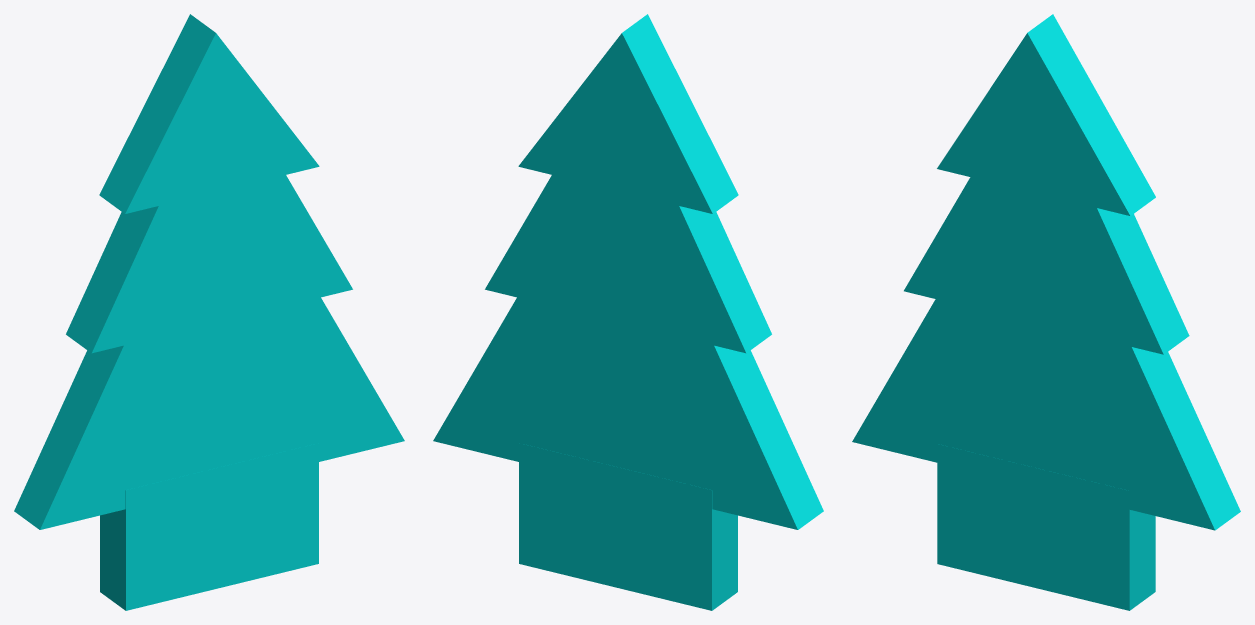
File: SM_Prop_Tree_Cookie_Large_02_Collision.fbx
3 renders of one model, left to right at view 1: azimuth 30°, elevation 25°; view 2: azimuth 150°, elevation 25°; view 3: azimuth 330°, elevation 25°, orthographic.
Parts seen in each view (by area): view 1: SM_Prop_Tree_Cookie_Large_02_Collision; view 2: SM_Prop_Tree_Cookie_Large_02_Collision; view 3: SM_Prop_Tree_Cookie_Large_02_Collision.
Boxes of the visible parts, x1,y1,x2,y2 form: SM_Prop_Tree_Cookie_Large_02_Collision: (14, 14, 404, 610); SM_Prop_Tree_Cookie_Large_02_Collision: (433, 14, 823, 610); SM_Prop_Tree_Cookie_Large_02_Collision: (852, 14, 1240, 610).
Size of the model in its own units: 571 by 830 by 70.47.
